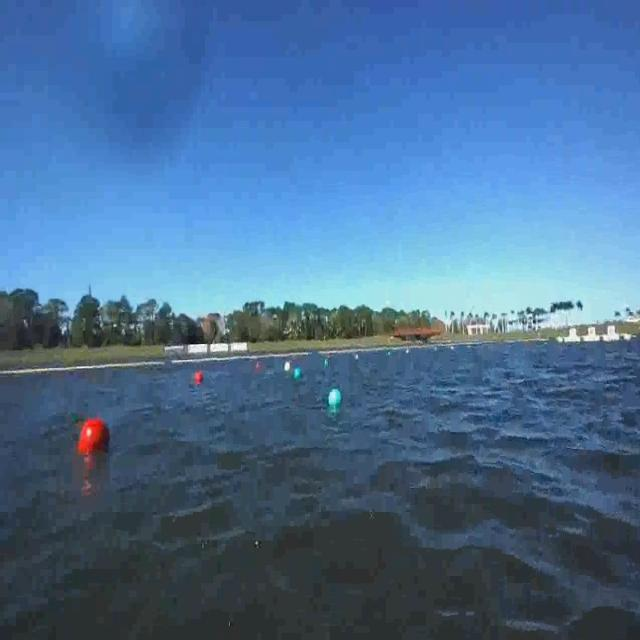green-buoy: (328, 388, 341, 408), (293, 366, 301, 378)
red-buoy: (81, 419, 113, 463), (193, 371, 203, 386), (196, 369, 205, 385)
